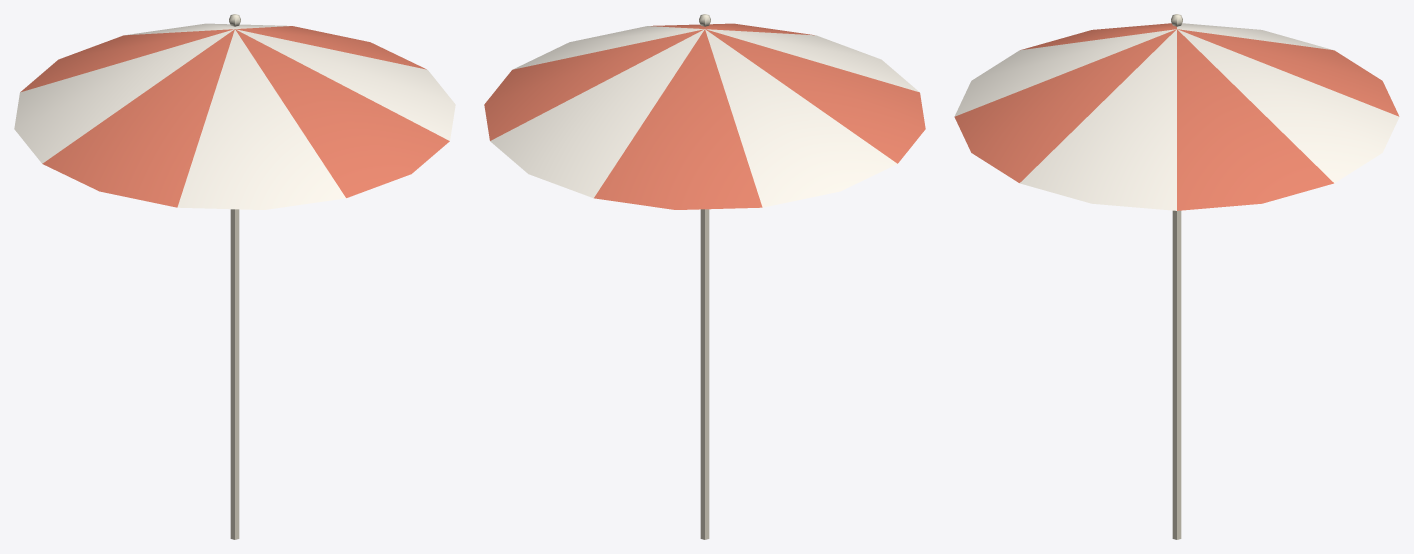
The model's file is umbrella.glb.
The picture shows the model from 3 angles, left to right: view 1: azimuth 30°, elevation 25°; view 2: azimuth 150°, elevation 25°; view 3: azimuth 270°, elevation 25°; orthographic projection.
Parts seen in each view (by area): view 1: umbrella; view 2: umbrella; view 3: umbrella.
Part boxes in pixels (box(x1,y1,x2,y2)): umbrella: box(14, 14, 455, 539); umbrella: box(484, 14, 925, 539); umbrella: box(954, 14, 1399, 539).
Size of the model in its own units: 2.3 by 2.99 by 2.3.
